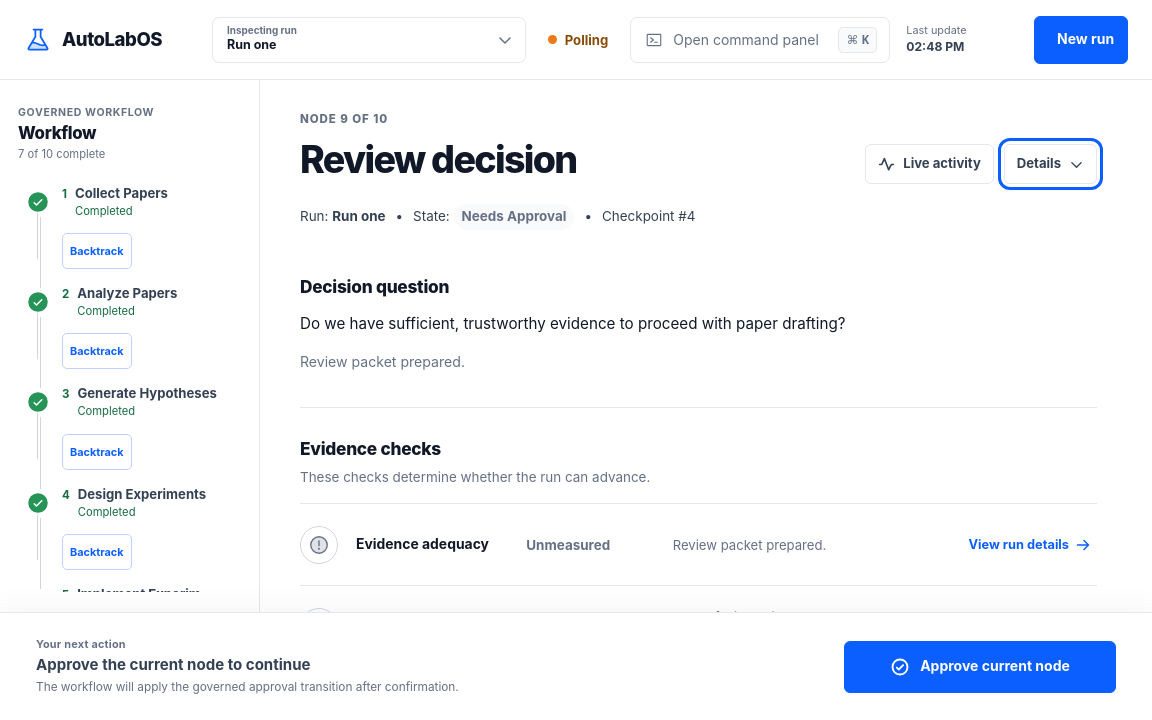
Test: App › renders review-stage readiness risks in the selected-run insight panel
Step 1. Click the button "Details" → (1050, 164), box [1004, 144, 1097, 184]
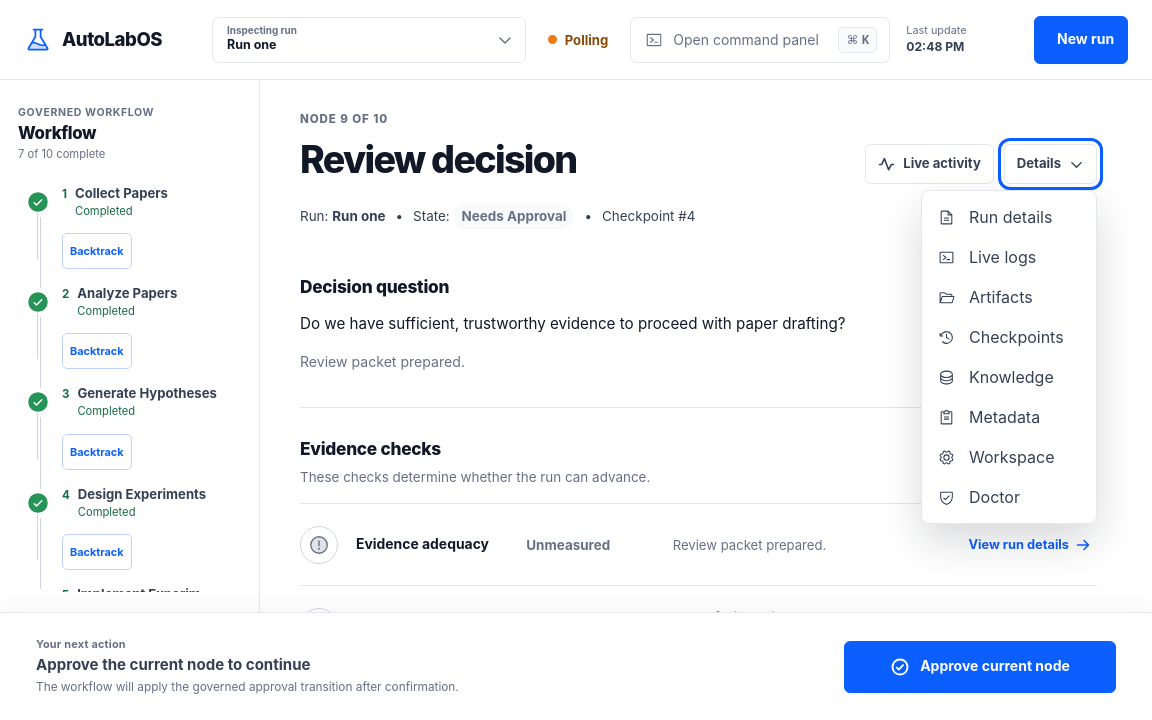
Step 2. Click the button "Run details" → (1009, 217), box [928, 197, 1090, 237]
(page scrolled)
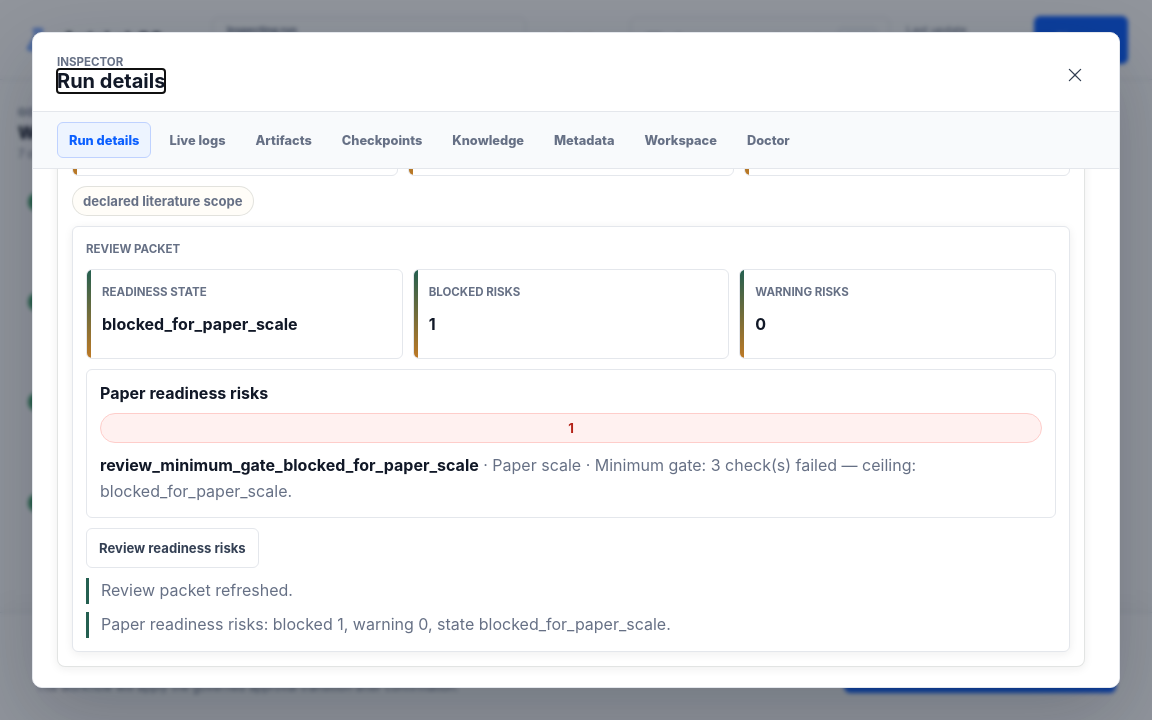
Check: the text "Review packet" is shown, box [86, 242, 180, 256]
Check: the text "Paper readiness risks" is shown, box [100, 383, 268, 403]
Check: the text "Readiness State" is shown, box [102, 285, 207, 299]
